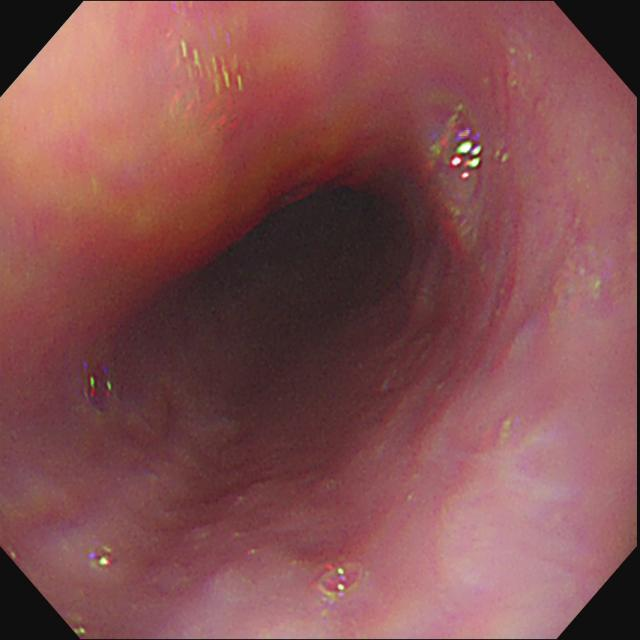E: (263, 190, 392, 311)
T: (319, 558, 364, 599)
U: (453, 126, 484, 182)
